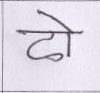o_matra: (62, 19, 74, 57)
